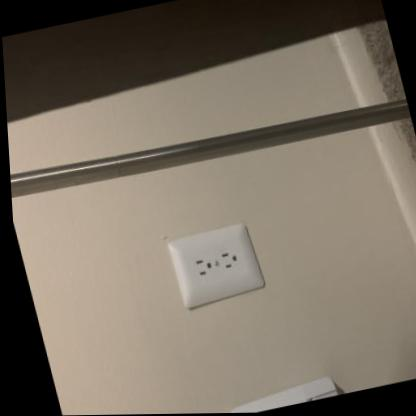OUTLET: (163, 222, 268, 309)
